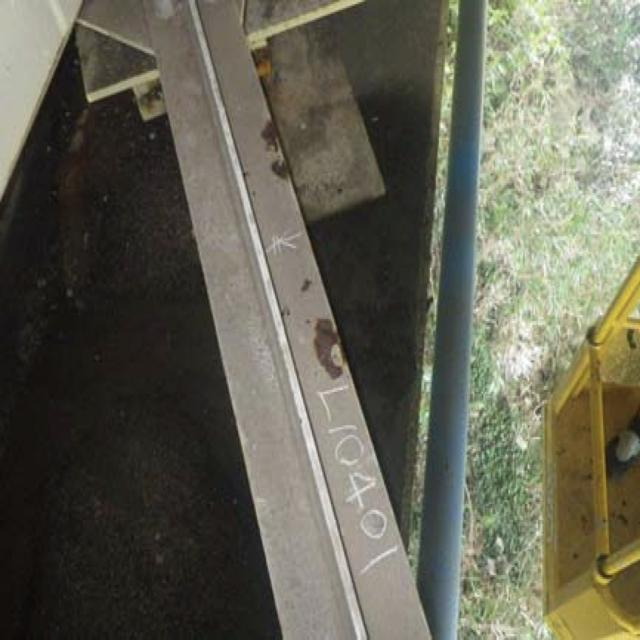corrosion: (252, 56, 347, 427)
